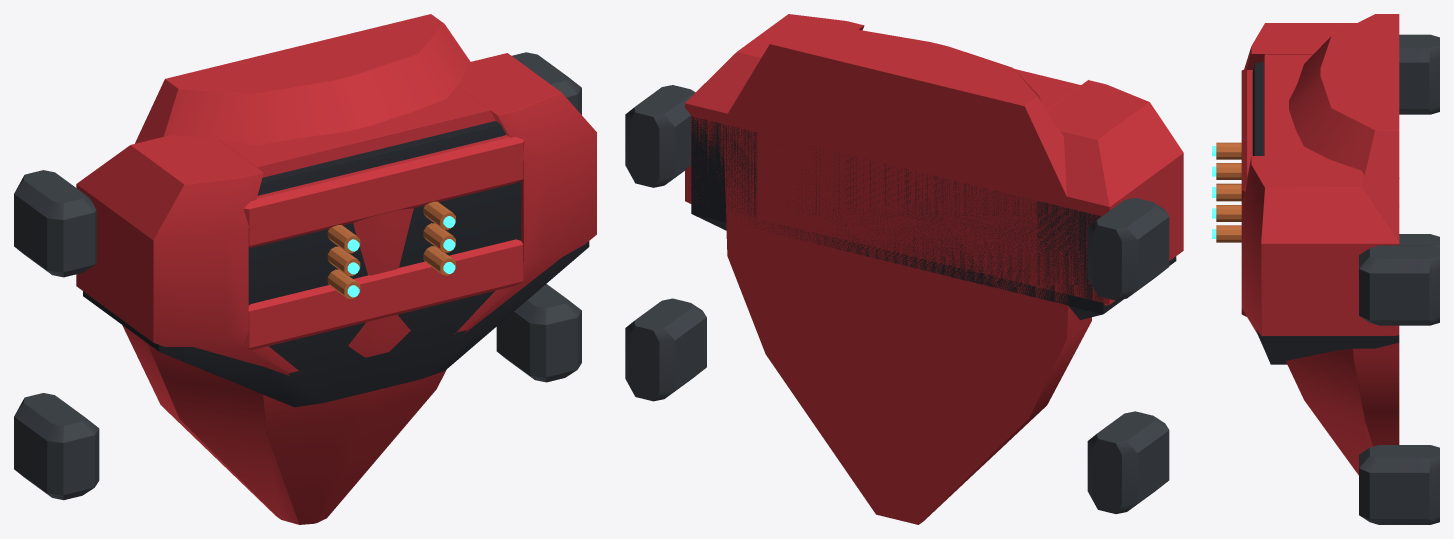
Rendered from UpperArmBack_Set06_Voltaic.fbx.
The picture shows the model from 3 angles, left to right: view 1: azimuth 30°, elevation 25°; view 2: azimuth 150°, elevation 25°; view 3: azimuth 270°, elevation 25°; orthographic projection. The views are drawn at different scales.
Parts seen in each view (by area): view 1: UpperArmBack_Set06_Voltaic; view 2: UpperArmBack_Set06_Voltaic; view 3: UpperArmBack_Set06_Voltaic.
Boxes of the visible parts, x1,y1,x2,y2 form: UpperArmBack_Set06_Voltaic: [14, 14, 596, 524]; UpperArmBack_Set06_Voltaic: [625, 14, 1183, 524]; UpperArmBack_Set06_Voltaic: [1212, 14, 1439, 524].
Bounding box in the file's own units: 0.41 × 0.34 × 0.169.
